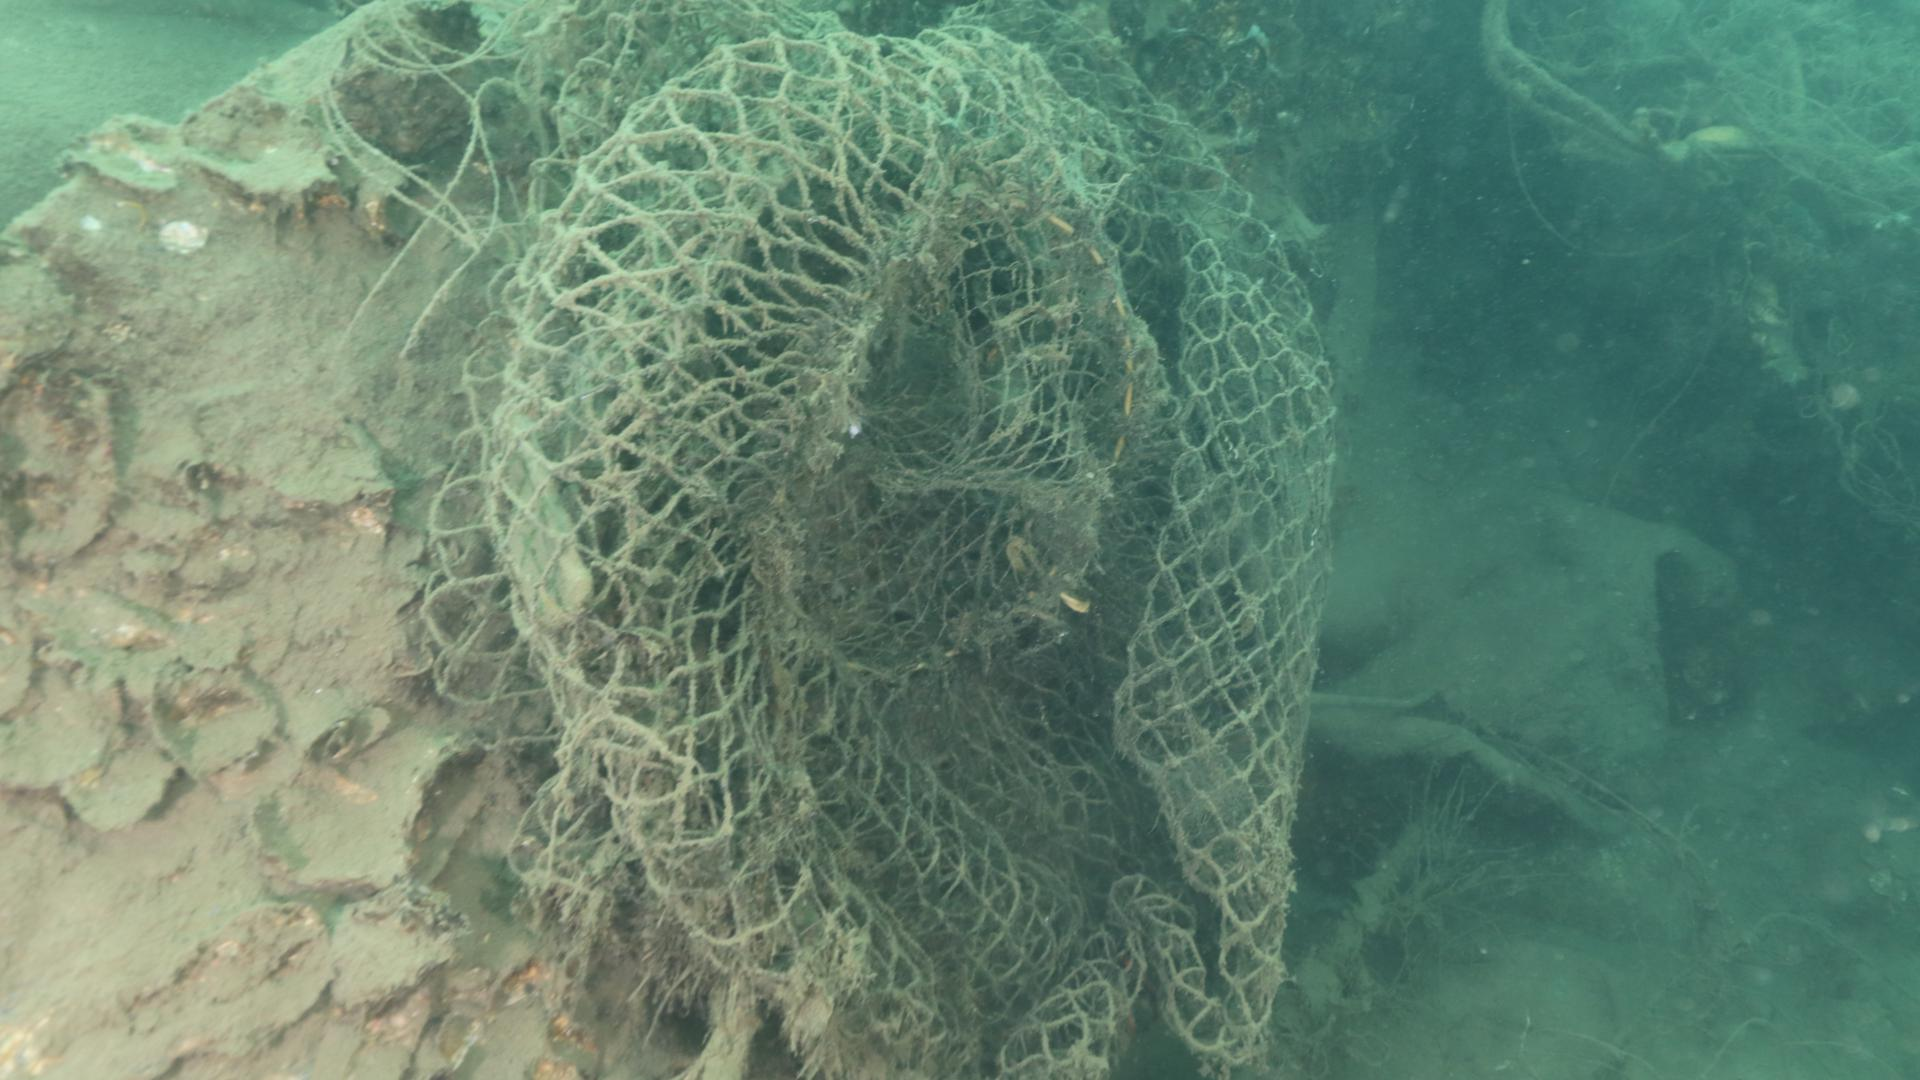fish net: (419, 0, 1337, 1080)
